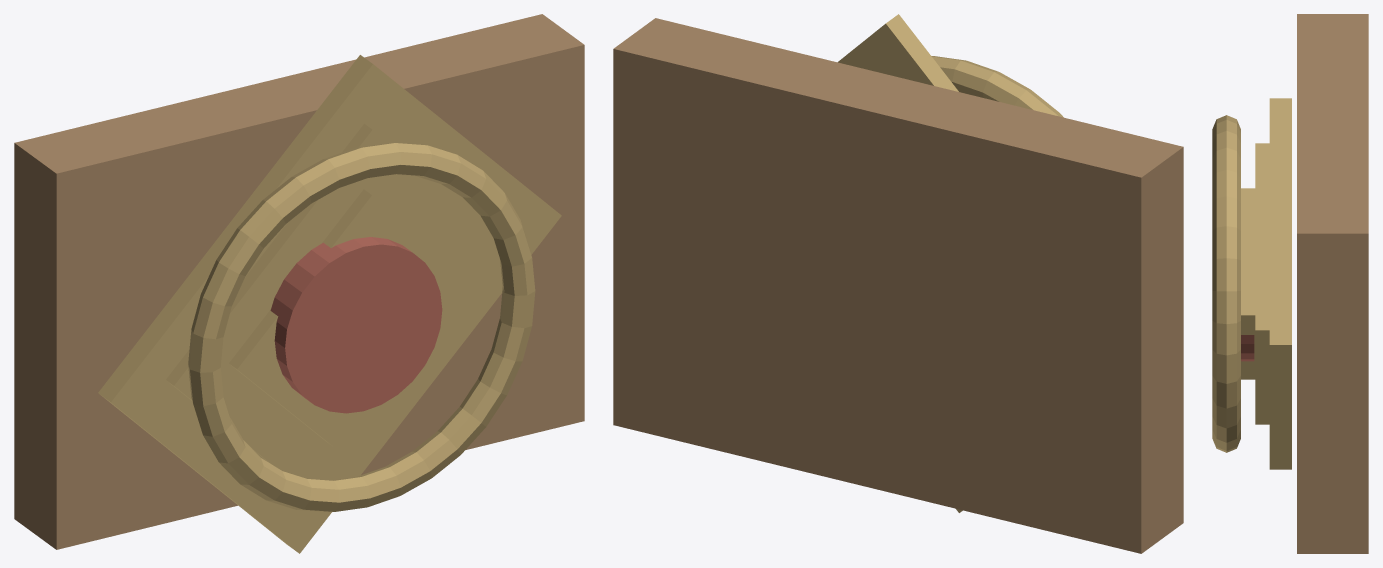
The model's file is ban_hero_block.glb.
3 renders of one model, left to right at view 1: azimuth 30°, elevation 25°; view 2: azimuth 150°, elevation 25°; view 3: azimuth 270°, elevation 25°, orthographic. The views are drawn at different scales.
Parts seen in each view (by area): view 1: world; view 2: world; view 3: world.
Boxes of the visible parts, x1,y1,x2,y2 form: world: (14, 14, 584, 553); world: (613, 14, 1183, 553); world: (1212, 14, 1368, 553).
Bounding box in the file's own units: 0.47 × 0.4014 × 0.1415.
